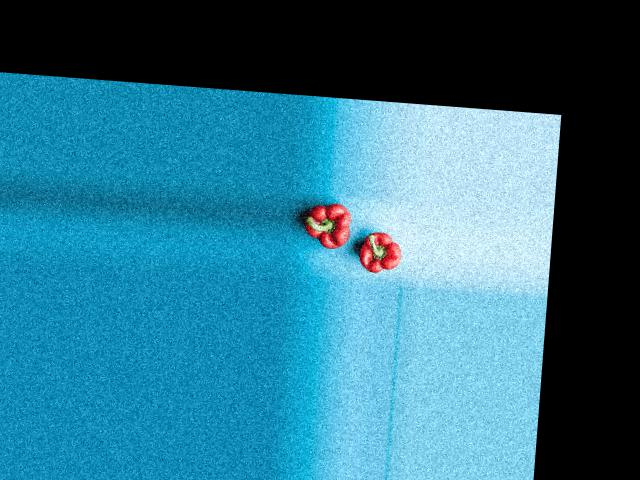bell_pepper: (297, 201, 361, 256)
